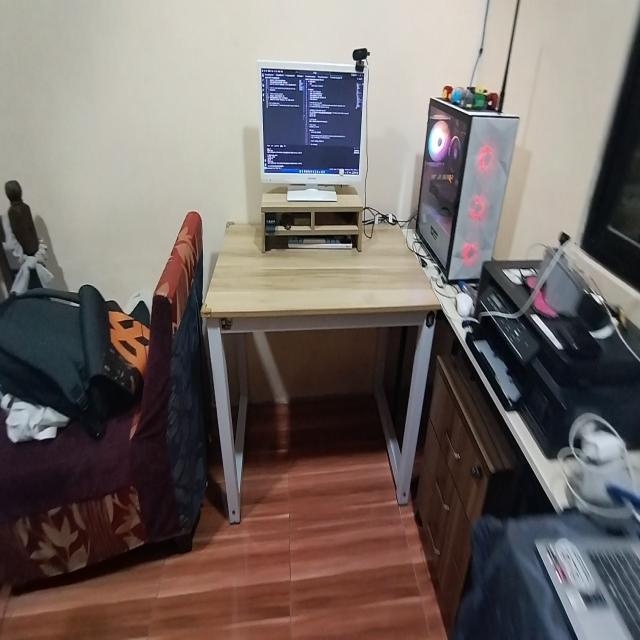table: (203, 214, 447, 522)
